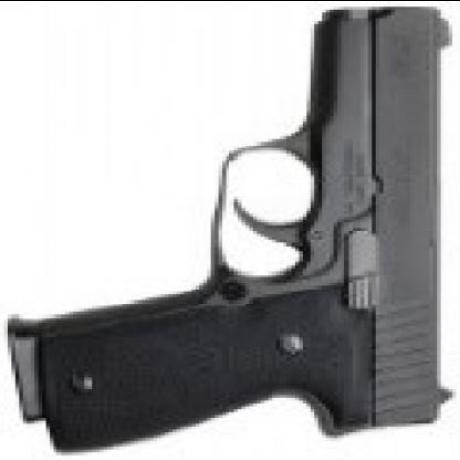weapon: (24, 9, 452, 448)
